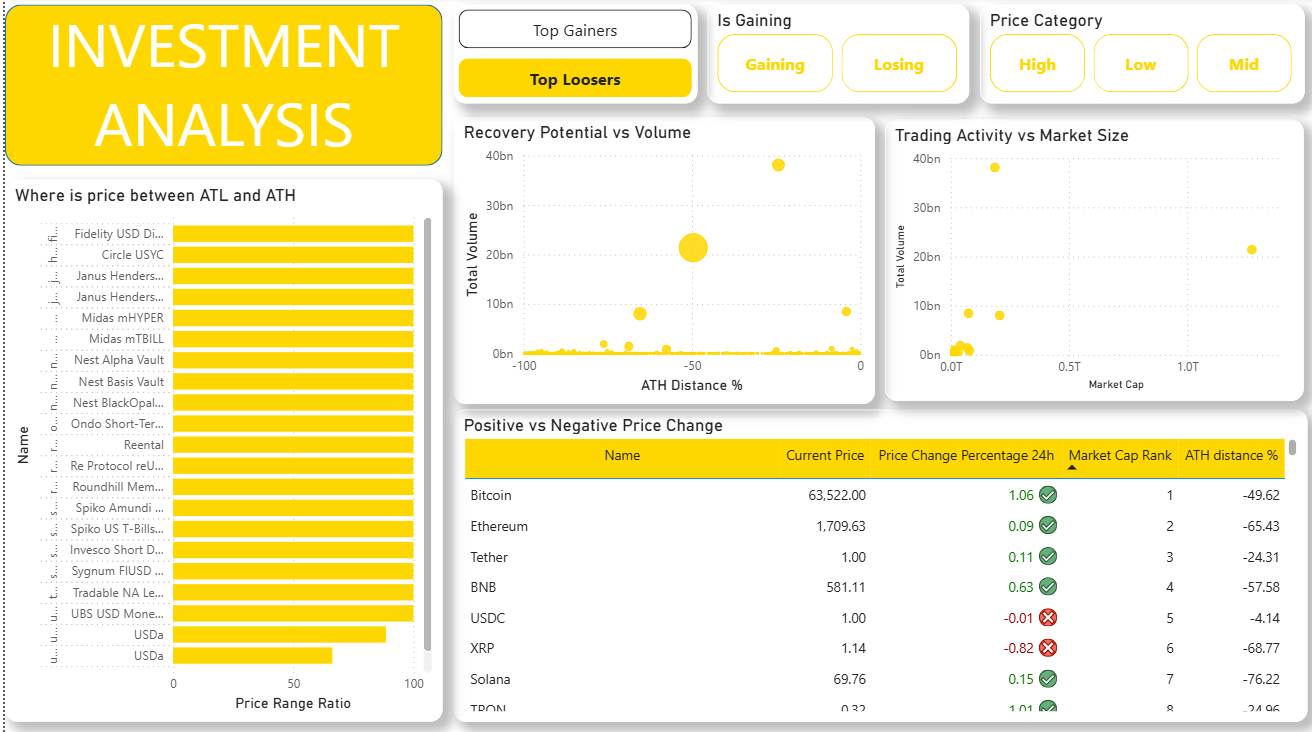

What the dashboard file says about the page in this screenshot:
{"tool":"powerbi","page":{"name":"Investment Analysis","canvas":[1280,720],"ordinal":1},"visuals":[{"type":"scatterChart","title":"Recovery Potential vs Volume","fields":{"X":["clean_crypto_final.ath_distance_pct"],"Y":["clean_crypto_final.total_volume"],"Size":["Sum(clean_crypto_final.market_cap)"]},"box":[439.4,117.9,412.1,280.5],"z":0},{"type":"tableEx","title":"Positive vs Negative Price Change","fields":{"Values":["clean_crypto_final.name","clean_crypto_final.current_price","clean_crypto_final.price_change_percentage_24h","clean_crypto_final.market_cap_rank","clean_crypto_final.ath_distance_pct"]},"box":[439,403.5,835.2,305.7],"z":1000},{"type":"clusteredBarChart","title":"Where is price between ATL and ATH","fields":{"Category":["clean_crypto_final.id","clean_crypto_final.name"],"Y":["Sum(clean_crypto_final.price_range_ratio)"]},"box":[0,178.5,428,530.7],"z":2000},{"type":"scatterChart","title":"Trading Activity vs Market Size","fields":{"X":["clean_crypto_final.market_cap"],"Y":["clean_crypto_final.total_volume"]},"box":[861.5,120.4,409.6,275.6],"z":3000},{"type":"bookmarkNavigator","box":[439.4,7.4,238.3,96.8],"z":4000},{"type":"advancedSlicerVisual","fields":{"Values":["clean_crypto_final.Is Gaining"]},"box":[687.7,7.4,255.7,96.8],"z":5000},{"type":"advancedSlicerVisual","fields":{"Values":["clean_crypto_final.price_category"]},"box":[953.3,7.4,317.8,96.8],"z":6000},{"type":"shape","box":[0,7.3,428,157.7],"z":7000},{"type":"textbox","box":[0,0,428.2,165.1],"z":8000}]}

Visuals, with their boxes in screenshot pixels (x1, y1, x2, y2), scaled from the page's 1280x720 canvas onto the 1312x732 screenshot:
"Recovery Potential vs Volume" scatterChart: 450,120,873,405
"Positive vs Negative Price Change" tableEx: 450,410,1306,721
"Where is price between ATL and ATH" clusteredBarChart: 0,181,439,721
"Trading Activity vs Market Size" scatterChart: 883,122,1303,403
bookmarkNavigator: 450,8,695,106
advancedSlicerVisual - clean_crypto_final.Is Gaining: 705,8,967,106
advancedSlicerVisual - clean_crypto_final.price_category: 977,8,1303,106
shape: 0,7,439,168
textbox: 0,0,439,168
